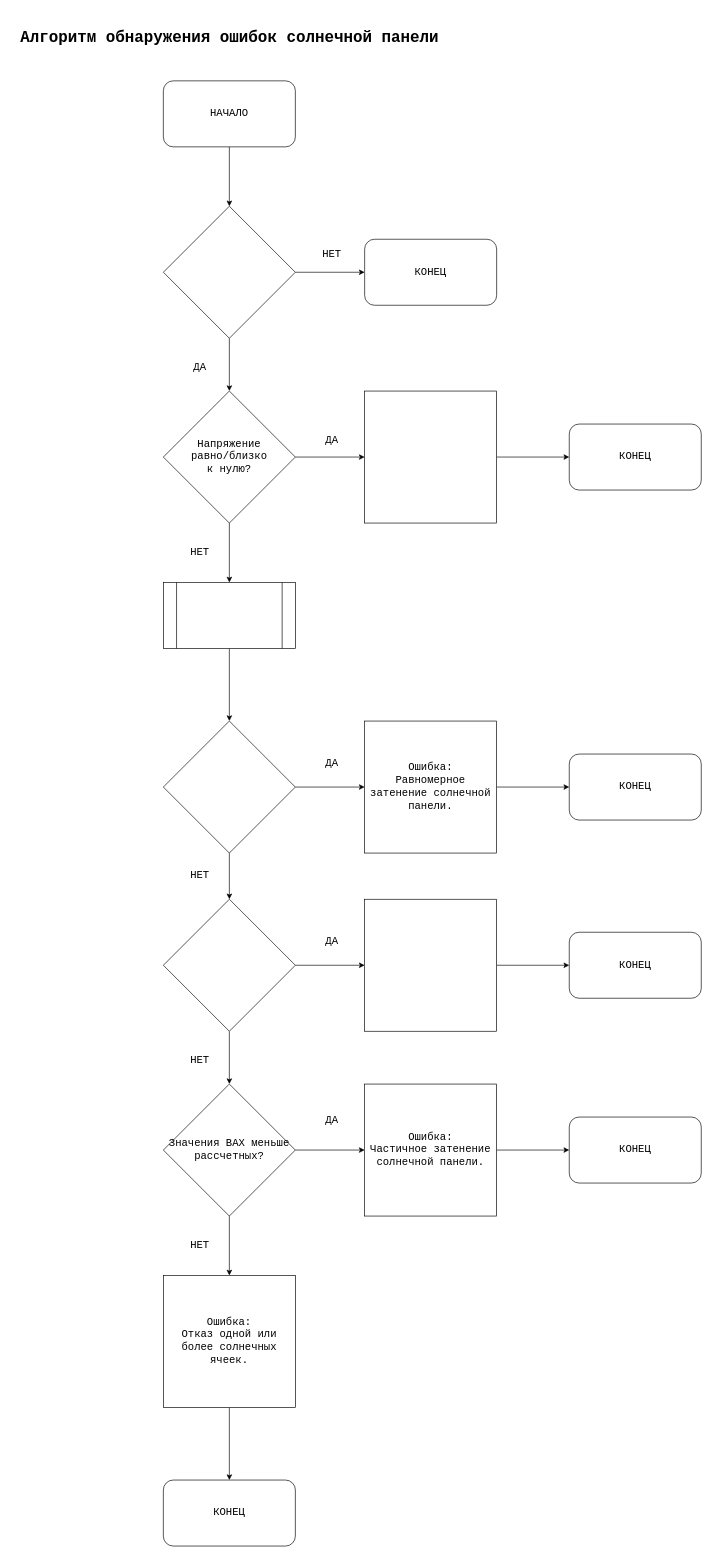
Some shapes in this 713 by 1558 pixel diagram are drawn without their labels. Here are the shapes that lost their labels. From the top down, the centre of each, then its label:
At point 229,272: "Напряжение меньше рассчетного?".
At point 430,456: "Ошибка: Солнечная панель отключена.".
At point 229,615: "Рассчитать ВАХ солнечной панели.".
At point 229,786: "Все точки ВАХ уменьшены на константу ?".
At point 229,965: "Форма ВАХ имеет ступенчатый вид?".
At point 430,965: "Ошибка: Неизвестная ошибка.".
